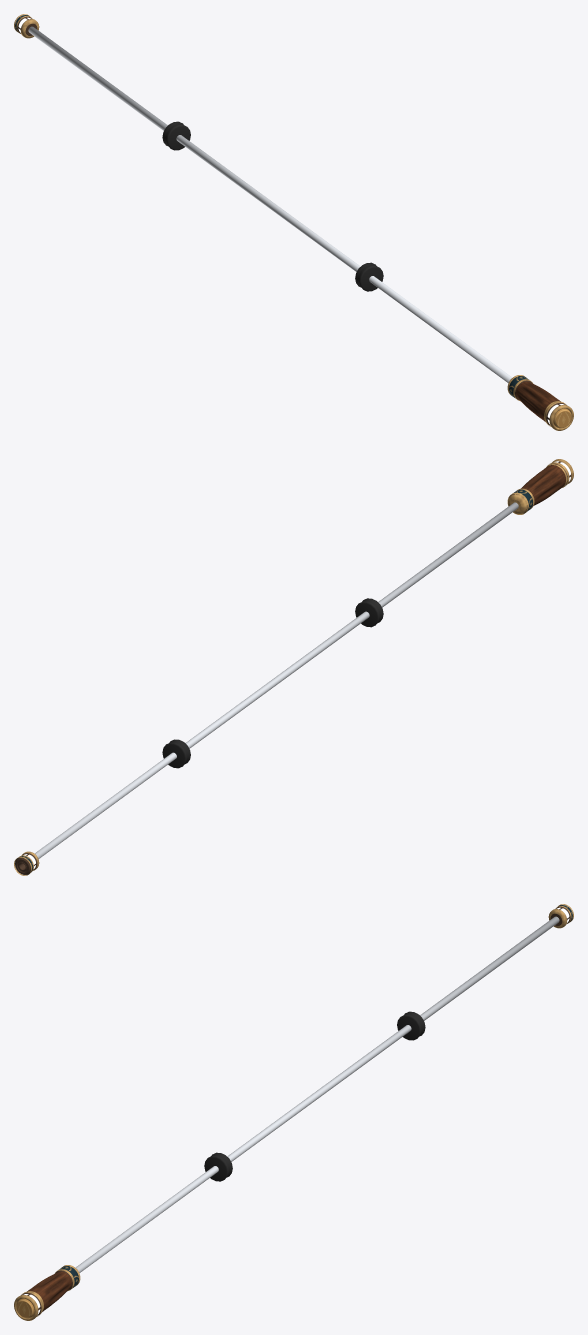
The model's file is fuzeball_rod_3man.glb.
The picture shows the model from 3 angles, top to bottom: view 1: azimuth 30°, elevation 25°; view 2: azimuth 150°, elevation 25°; view 3: azimuth 330°, elevation 25°; orthographic projection.
Visible parts, largest first — view 1: rod2_bar.002, rod3_handle_walnut_grip, CylinderL, CylinderR; view 2: rod2_bar.002, rod3_handle_walnut_grip, CylinderL, CylinderR; view 3: rod2_bar.002, rod3_handle_walnut_grip, CylinderL, CylinderR.
Boxes of the visible parts, box(x1,y1,x2,y2) form: rod2_bar.002: box(28, 26, 512, 382); rod3_handle_walnut_grip: box(516, 381, 560, 421); CylinderL: box(355, 262, 383, 291); CylinderR: box(162, 121, 190, 150); rod2_bar.002: box(34, 502, 518, 858); rod3_handle_walnut_grip: box(521, 465, 565, 505); CylinderL: box(355, 598, 383, 627); CylinderR: box(162, 739, 190, 768); rod2_bar.002: box(75, 916, 559, 1272); rod3_handle_walnut_grip: box(27, 1271, 71, 1311); CylinderL: box(204, 1152, 232, 1181); CylinderR: box(397, 1011, 425, 1040).
Size of the model in its own units: 3.02 by 3.02 by 118.
8 materials, 6 textured.
